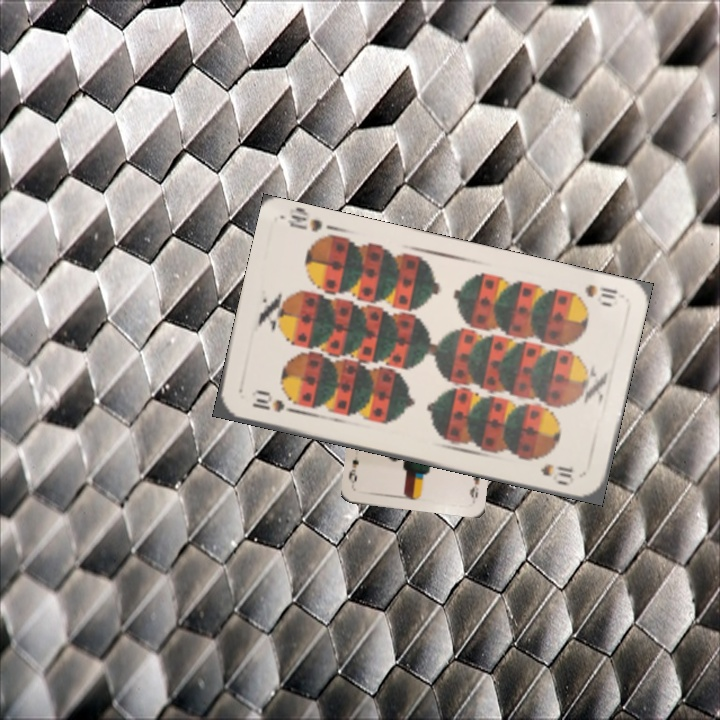E9: (466, 470, 482, 503)
S10: (248, 389, 300, 416), (581, 280, 621, 302)
